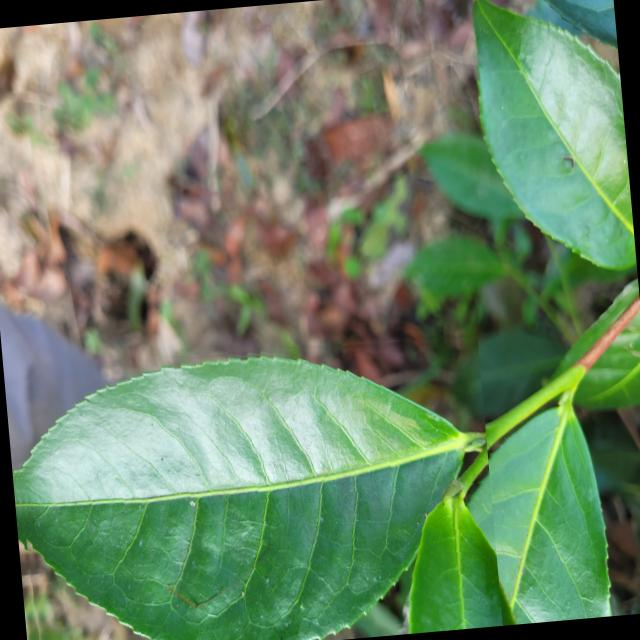Category D(7+ days, Not for Tea): (3, 327, 502, 640)
